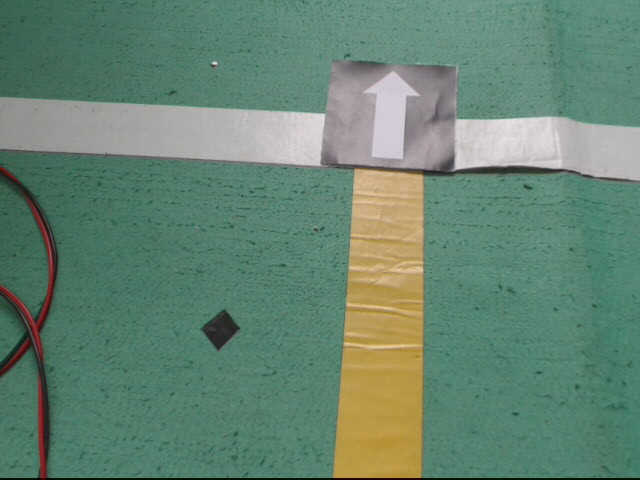straight: (321, 61, 459, 171)
